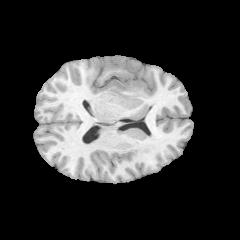glioma: (110, 67, 150, 93)
